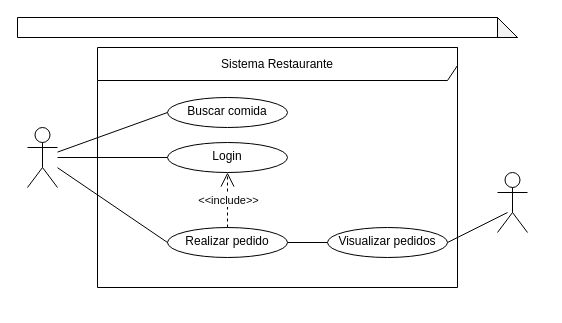
Some shapes in this 562 by 323 pixel diagram are drawn without their labels. Each missing label, with the centre of its shape:
Cliente: point (42, 157)
Karen Gonzaga Rivas: point (267, 27)
Restaurante: point (512, 202)
